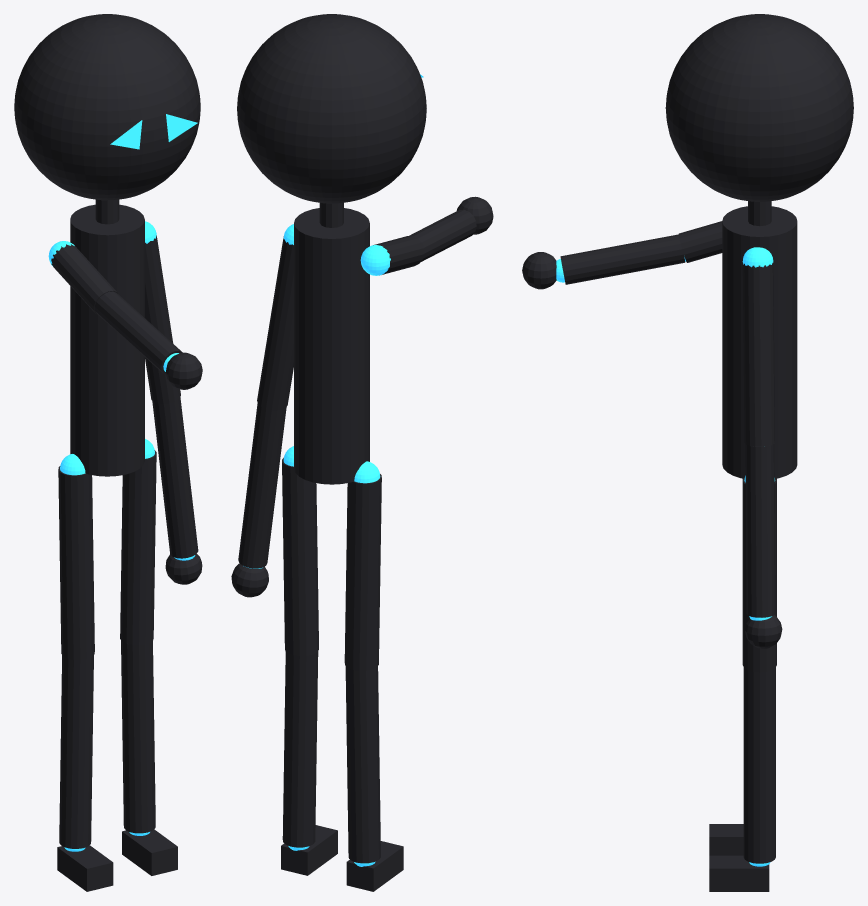
Rendered from stickman.glb.
The picture shows the model from 3 angles, left to right: view 1: azimuth 30°, elevation 25°; view 2: azimuth 150°, elevation 25°; view 3: azimuth 270°, elevation 25°; orthographic projection.
Visible parts, largest first — view 1: Head, Torso, ThighL, ShinL, ShinR, ThighR, ForearmR, ForearmL, UpperArmR, UpperArmL, ShoeL, ShoeR (+6 smaller); view 2: Head, Torso, ThighL, ShinL, ShinR, ThighR, ForearmR, UpperArmR, ForearmL, ShoeL, ShoeR, UpperArmL (+4 smaller); view 3: Head, Torso, ShinR, UpperArmR, ForearmR, ForearmL, ShoeR, ThighR, UpperArmL, ShoeL, HandAim, HandAim.001.
Boxes of the visible parts, bbox=[...] form: Head: bbox=[14, 14, 200, 200]; Torso: bbox=[70, 204, 144, 476]; ThighL: bbox=[58, 466, 94, 659]; ShinL: bbox=[59, 655, 93, 848]; ShinR: bbox=[121, 640, 155, 833]; ThighR: bbox=[120, 450, 156, 645]; ForearmR: bbox=[152, 397, 198, 558]; ForearmL: bbox=[94, 291, 182, 374]; UpperArmR: bbox=[145, 235, 180, 403]; UpperArmL: bbox=[51, 244, 117, 314]; ShoeL: bbox=[57, 845, 113, 891]; ShoeR: bbox=[122, 829, 177, 875]; Head: bbox=[237, 14, 426, 203]; Torso: bbox=[294, 208, 369, 484]; ThighL: bbox=[344, 474, 381, 670]; ShinL: bbox=[345, 666, 380, 863]; ShinR: bbox=[282, 651, 318, 847]; ThighR: bbox=[282, 457, 318, 655]; ForearmR: bbox=[238, 403, 286, 568]; UpperArmR: bbox=[257, 236, 293, 410]; ForearmL: bbox=[409, 210, 476, 261]; ShoeL: bbox=[346, 841, 403, 891]; ShoeR: bbox=[281, 825, 337, 875]; UpperArmL: bbox=[373, 236, 424, 274]; Head: bbox=[665, 14, 853, 201]; Torso: bbox=[722, 206, 797, 478]; ShinR: bbox=[743, 667, 775, 863]; UpperArmR: bbox=[742, 262, 774, 446]; ForearmR: bbox=[745, 444, 775, 617]; ForearmL: bbox=[560, 234, 685, 284]; ShoeR: bbox=[709, 855, 769, 891]; ThighR: bbox=[742, 478, 776, 672]; UpperArmL: bbox=[678, 221, 722, 262]; ShoeL: bbox=[709, 824, 743, 855]; HandAim: bbox=[522, 252, 556, 289]; HandAim.001: bbox=[745, 615, 782, 648].
Bounding box in the file's own units: 1.19 × 5.46 × 1.94.
